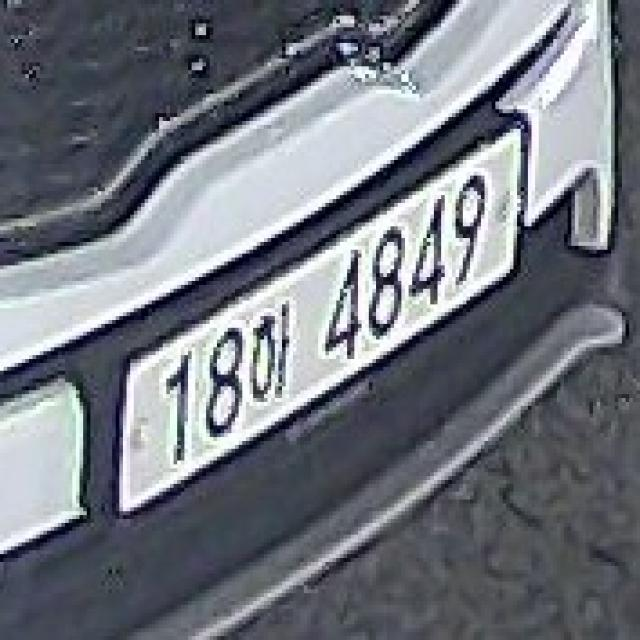1: (152, 344, 199, 476)
4: (405, 179, 452, 324), (322, 238, 369, 382)
8: (199, 312, 246, 445), (365, 215, 412, 347)
9: (448, 164, 492, 293)
ha: (250, 292, 296, 413)
license_plate: (76, 105, 531, 523)
